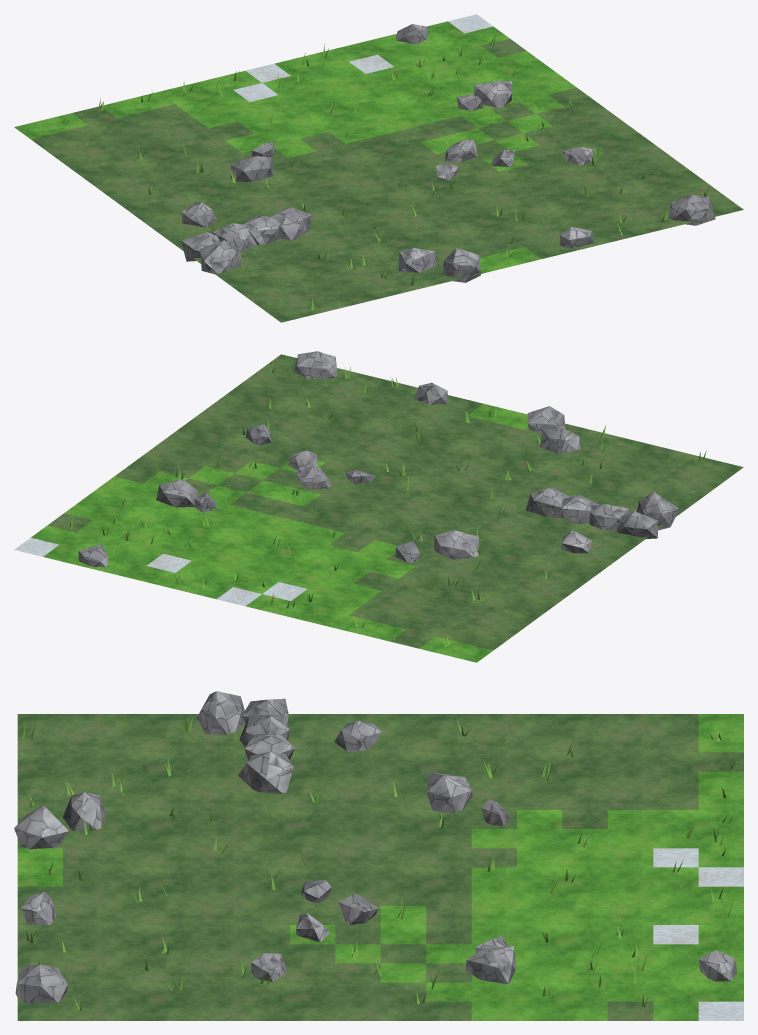
Rendered from chunk_8_2.glb.
The picture shows the model from 3 angles, top to bottom: view 1: azimuth 30°, elevation 25°; view 2: azimuth 150°, elevation 25°; view 3: azimuth 270°, elevation 25°; orthographic projection. The views are drawn at different scales.
Parts seen in each view (by area): view 1: chunk_8_2; view 2: chunk_8_2; view 3: chunk_8_2.
Boxes of the visible parts, left/top/right/bottom form: chunk_8_2: left=14, top=14, right=743, bottom=322; chunk_8_2: left=14, top=351, right=743, bottom=662; chunk_8_2: left=14, top=691, right=743, bottom=1020.
Bounding box in the file's own units: 16.22 × 1.27 × 16.08.
5 materials, 4 textured.
